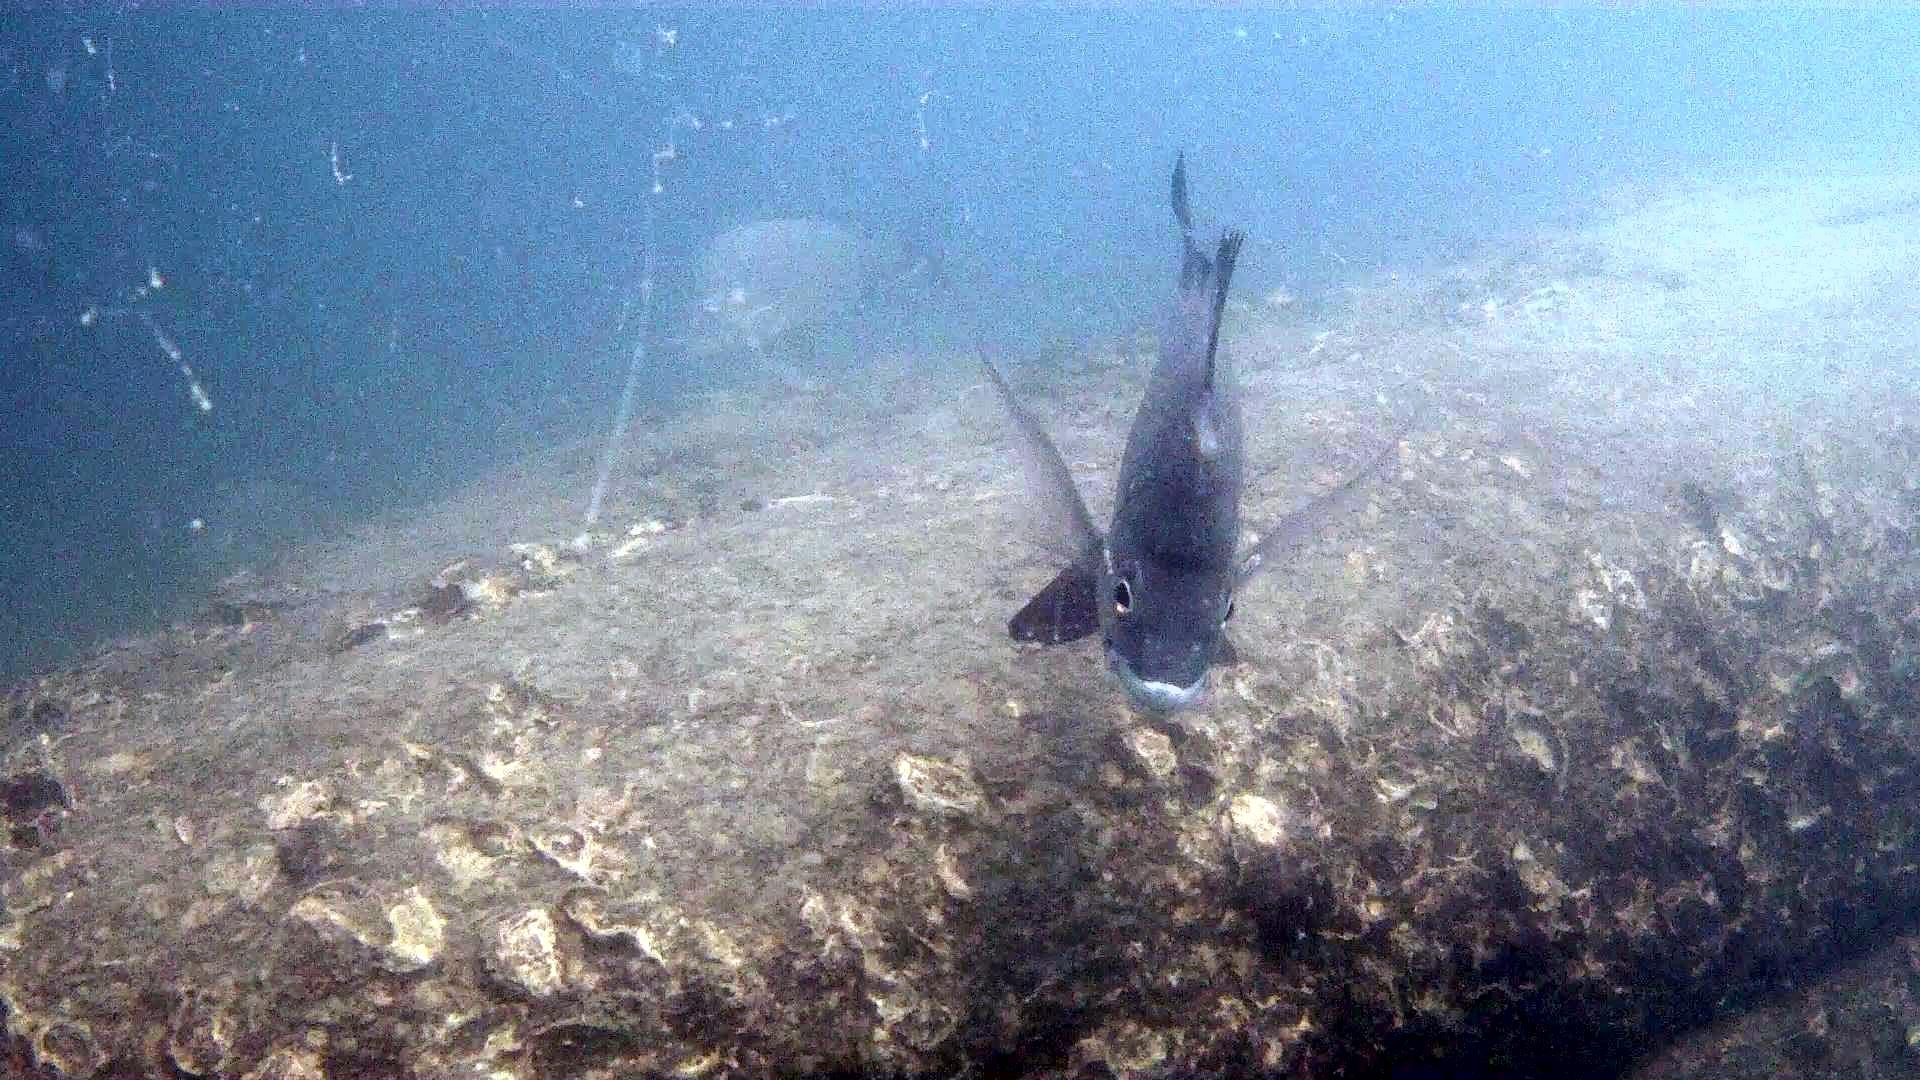acanthopagrus palmaris: (963, 137, 1414, 726)
